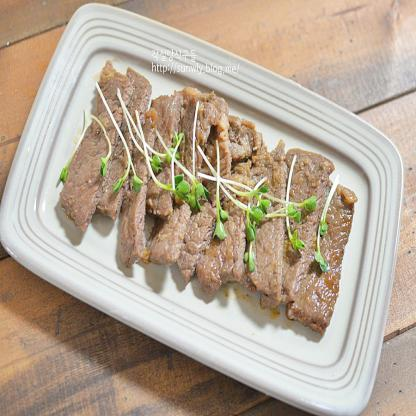Carne: (62, 62, 127, 239), (295, 186, 355, 336), (204, 111, 254, 285), (148, 90, 194, 274), (248, 142, 294, 305), (186, 100, 218, 283), (108, 68, 147, 218), (280, 142, 314, 305), (122, 126, 150, 274)
